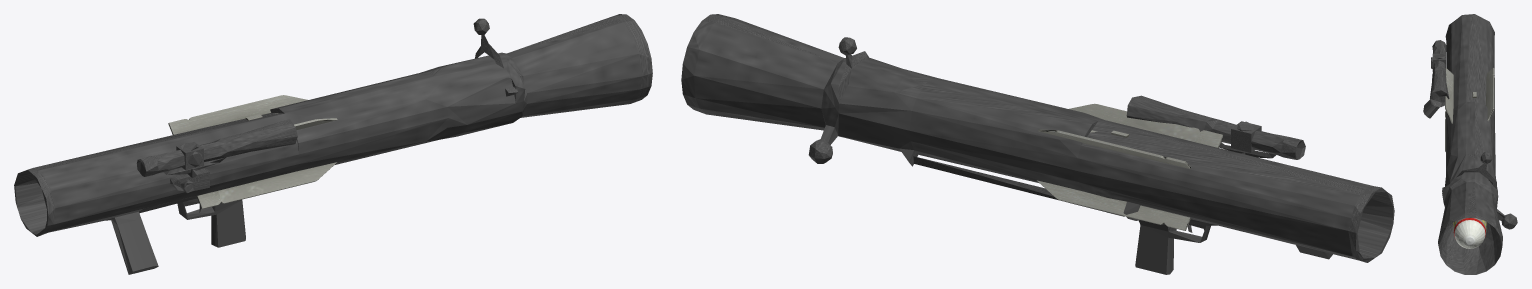
Rendered from raketomet.glb.
3 renders of one model, left to right at view 1: azimuth 30°, elevation 25°; view 2: azimuth 150°, elevation 25°; view 3: azimuth 270°, elevation 25°, orthographic. The views are drawn at different scales.
Parts seen in each view (by area): view 1: raketomet, raketa_v_hlavni; view 2: raketomet, raketa_v_hlavni; view 3: raketomet, raketa_v_hlavni.
Part boxes in pixels (bbox=[...]): raketomet: bbox=[14, 14, 652, 274]; raketa_v_hlavni: bbox=[168, 95, 337, 209]; raketomet: bbox=[681, 14, 1394, 274]; raketa_v_hlavni: bbox=[1037, 103, 1222, 230]; raketomet: bbox=[1423, 14, 1517, 274]; raketa_v_hlavni: bbox=[1445, 68, 1494, 248].
Size of the model in its own units: 1.2 by 0.2879 by 0.2277.
2 materials, 2 textured.
